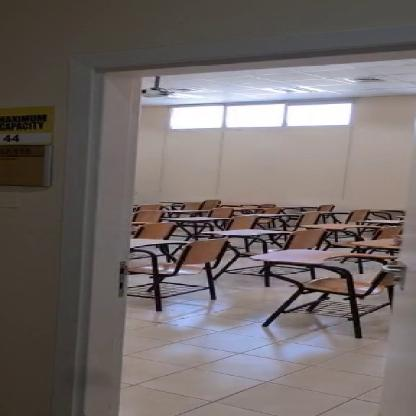open: (41, 33, 390, 408)
